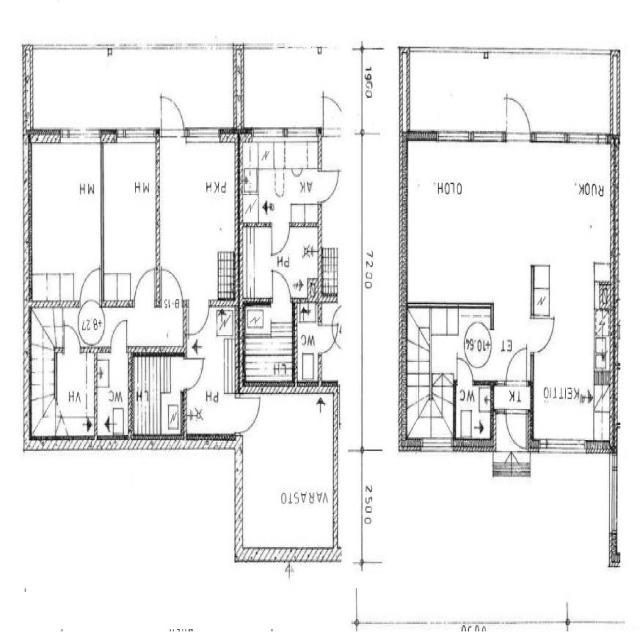door: (503, 90, 532, 145), (157, 92, 186, 143), (235, 390, 265, 434), (320, 92, 344, 146), (504, 408, 530, 452), (505, 344, 531, 388), (159, 262, 185, 304), (181, 351, 206, 392), (531, 314, 556, 355), (187, 296, 211, 338), (133, 264, 156, 307), (316, 318, 342, 356), (80, 262, 104, 303), (317, 166, 342, 203), (269, 268, 293, 306), (109, 316, 130, 356), (61, 321, 82, 359), (270, 222, 292, 257), (453, 356, 474, 388)
window: (535, 125, 607, 150), (603, 447, 622, 540), (535, 432, 591, 462), (59, 123, 101, 147), (185, 122, 222, 146), (114, 124, 158, 144), (417, 436, 454, 459), (435, 126, 473, 148), (532, 126, 568, 148), (469, 127, 504, 146), (250, 123, 288, 140), (284, 123, 319, 140)
zone: (405, 137, 605, 300), (530, 207, 614, 443), (238, 382, 338, 564), (158, 134, 239, 298), (29, 132, 104, 305), (101, 133, 160, 305), (239, 133, 322, 230), (26, 342, 96, 440), (406, 305, 496, 381), (247, 220, 320, 296), (131, 343, 183, 442), (241, 302, 294, 388), (93, 346, 133, 439), (455, 380, 493, 445)
